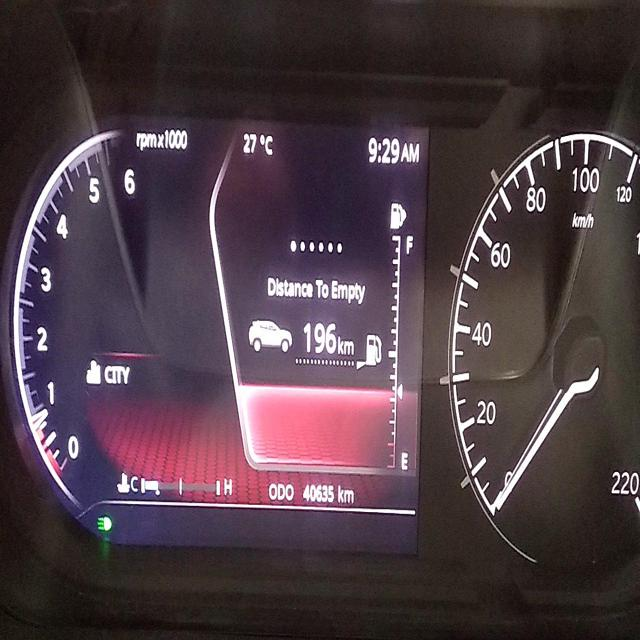odometer: (300, 479, 338, 507)
